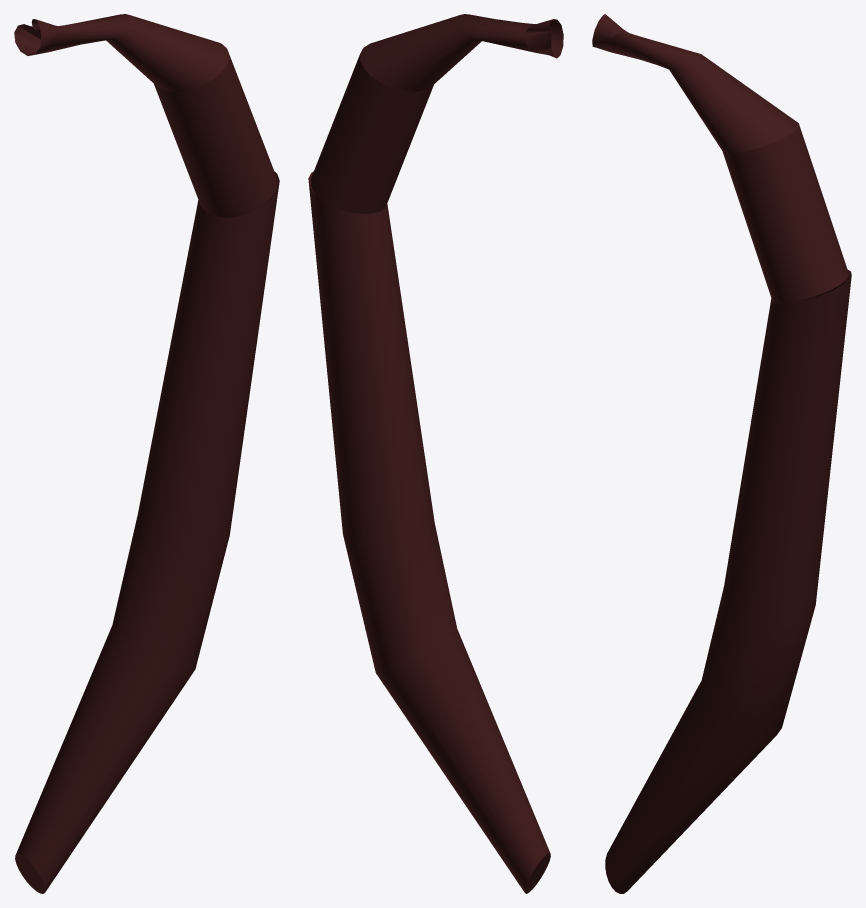
File: handle.fbx
3 renders of one model, left to right at view 1: azimuth 30°, elevation 25°; view 2: azimuth 150°, elevation 25°; view 3: azimuth 330°, elevation 25°, orthographic.
Visible parts, largest first — view 1: pCylinder3; view 2: pCylinder3; view 3: pCylinder3.
Boxes of the visible parts, <box> form: pCylinder3: <box>14,14,279,893</box>; pCylinder3: <box>308,14,563,893</box>; pCylinder3: <box>592,14,851,893</box>.
Size of the model in its own units: 2.24 by 7.53 by 0.8159.
